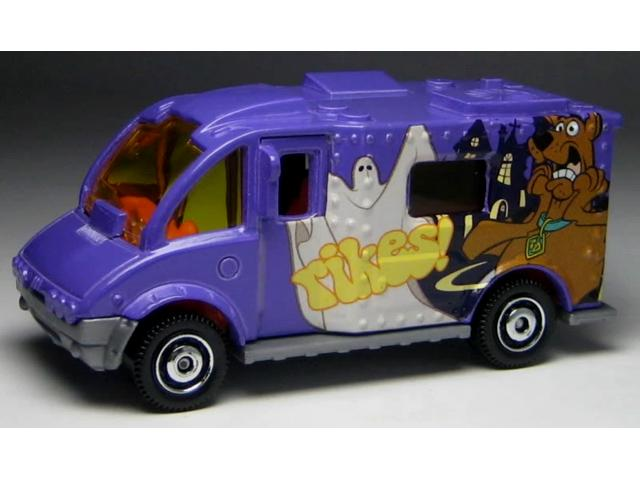toy-car: (11, 70, 625, 413)
